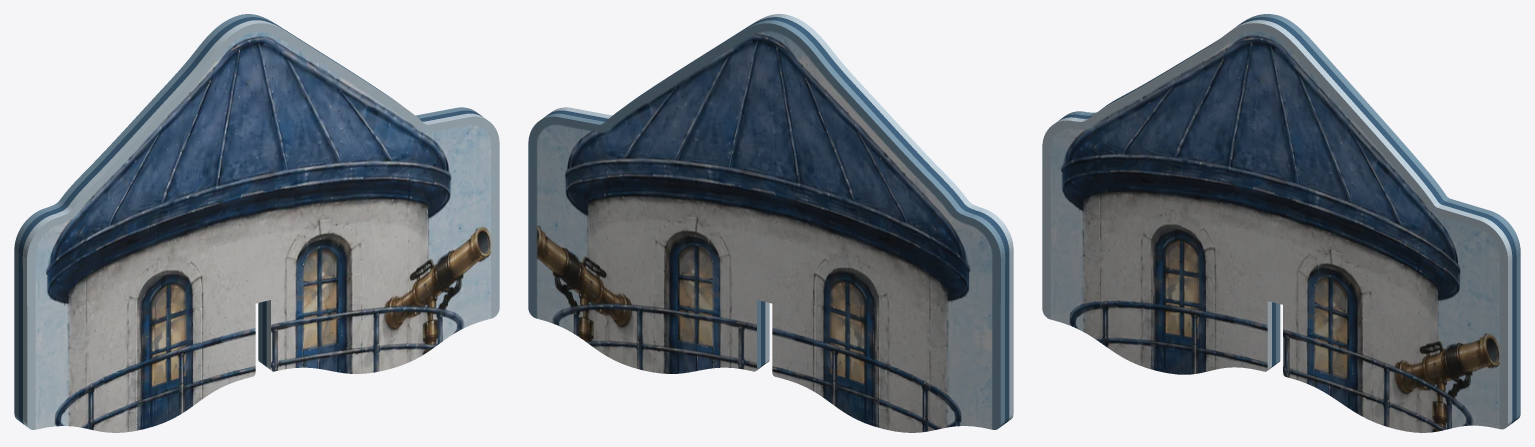
File: narrow-panel-top-subpanel.glb
3 views of the same model, side by side, from view 1: azimuth 30°, elevation 25°; view 2: azimuth 150°, elevation 25°; view 3: azimuth 330°, elevation 25° (orthographic).
Visible parts, largest first — view 1: narrow-panel-top-subpanel; view 2: narrow-panel-top-subpanel; view 3: narrow-panel-top-subpanel.
Boxes of the visible parts, bbox=[...] form: narrow-panel-top-subpanel: bbox=[14, 14, 499, 432]; narrow-panel-top-subpanel: bbox=[528, 14, 1013, 432]; narrow-panel-top-subpanel: bbox=[1042, 14, 1520, 432].
Bounding box in the file's own units: 580 × 444 × 27.
Materials: 6 (3 with a texture image).
